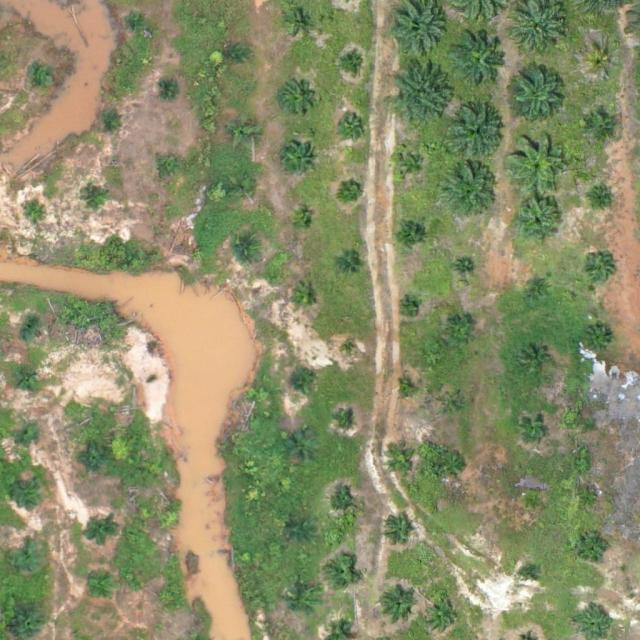Grass: (81, 446, 112, 477)
Healthy: (507, 131, 569, 194), (393, 64, 455, 127), (515, 2, 570, 58), (443, 163, 498, 218), (451, 105, 506, 160), (455, 34, 510, 89), (511, 63, 565, 118)
Small: (511, 194, 566, 249), (10, 541, 50, 580), (381, 585, 420, 625), (280, 141, 319, 180), (422, 597, 461, 636), (15, 608, 46, 640), (441, 450, 472, 482), (578, 531, 609, 563), (282, 81, 313, 113), (386, 446, 417, 478), (290, 283, 321, 315), (230, 116, 261, 148), (16, 478, 47, 509), (587, 111, 618, 142), (329, 491, 360, 522), (328, 559, 359, 590), (383, 517, 414, 548), (86, 518, 117, 549), (85, 574, 116, 605), (583, 255, 614, 286), (585, 326, 616, 357), (521, 413, 552, 444), (521, 346, 552, 377), (525, 275, 556, 306), (446, 318, 477, 349), (395, 218, 426, 249), (288, 433, 319, 464), (397, 150, 428, 181), (338, 110, 369, 141), (289, 590, 320, 621), (154, 585, 178, 609), (158, 507, 182, 531), (290, 371, 314, 395), (223, 44, 247, 68), (19, 420, 43, 444), (19, 365, 43, 389), (19, 319, 43, 343), (31, 67, 54, 91), (521, 491, 545, 514), (442, 394, 466, 417), (292, 211, 316, 234), (290, 520, 313, 544), (341, 51, 364, 75), (289, 9, 312, 33), (160, 79, 184, 102), (83, 188, 106, 212), (234, 178, 258, 201), (342, 179, 365, 203), (23, 203, 46, 227), (579, 487, 602, 511), (339, 256, 362, 279), (234, 239, 257, 262), (97, 109, 120, 132), (158, 158, 181, 181), (127, 11, 150, 34), (596, 191, 612, 207), (522, 567, 538, 582), (402, 300, 418, 315), (398, 381, 413, 397), (339, 413, 355, 428), (458, 260, 473, 275), (343, 343, 358, 358)
Yellow: (588, 49, 619, 80)
